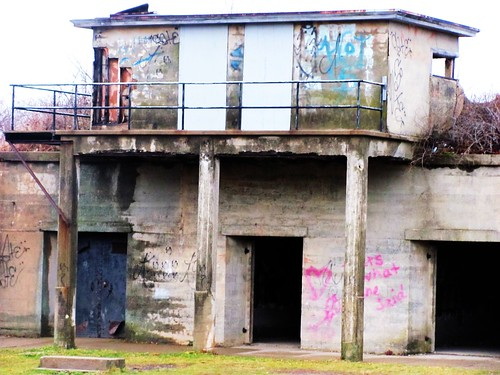building: (16, 5, 500, 340)
